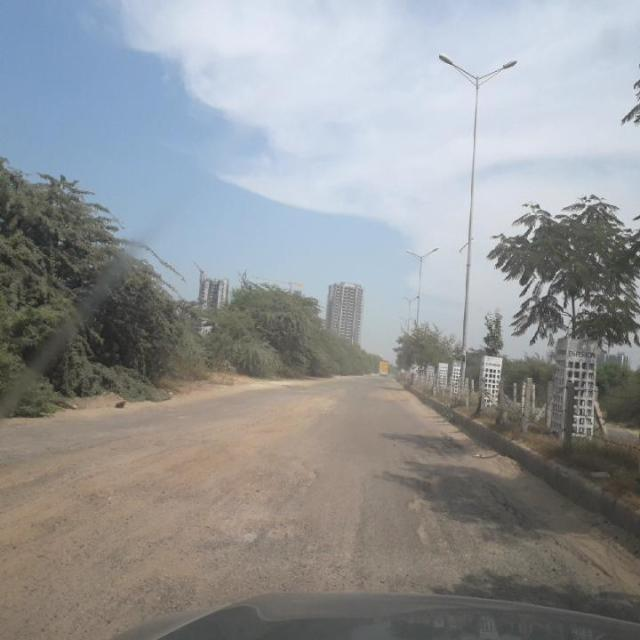D00: (337, 445, 379, 583)
D40: (0, 441, 313, 628), (405, 442, 559, 582)
